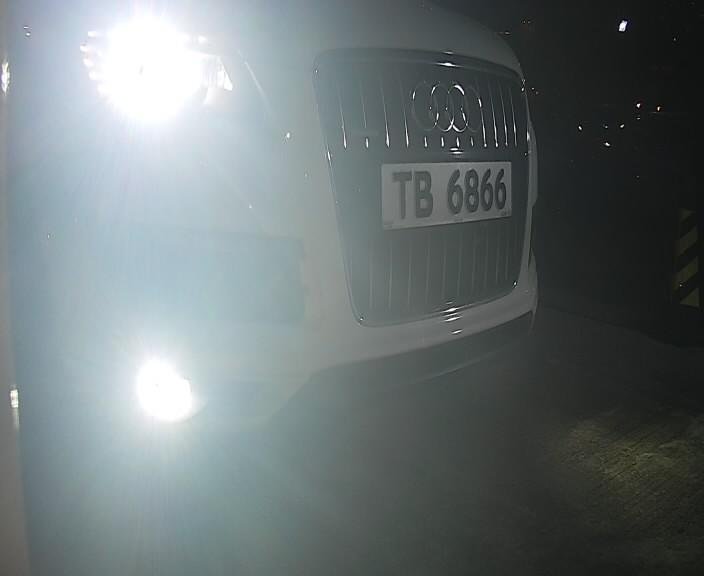privatecar: (13, 3, 560, 543)
